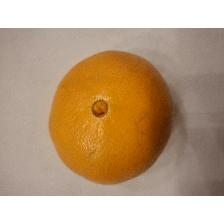Orange: (48, 50, 182, 188)
